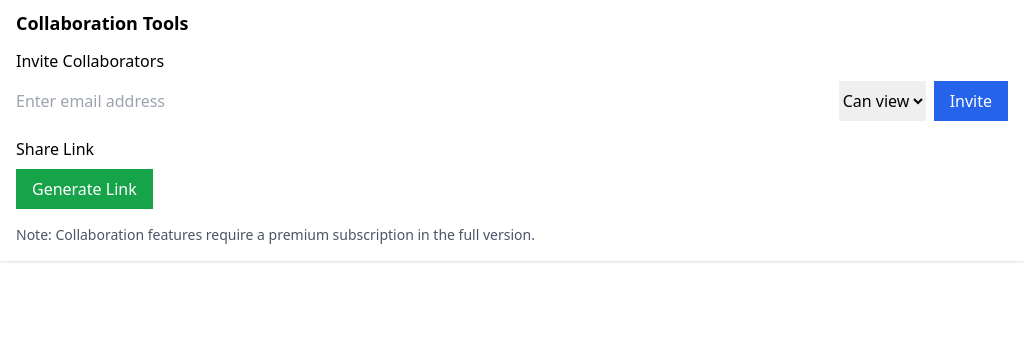
Test: CollaborationTools › shows error when adding invalid email
The width and height of the screenshot is (1024, 339).
// Enter invalid email
In the field with placeholder "Enter email address": (423, 101) [16,81,831,121], type "invalid-email"
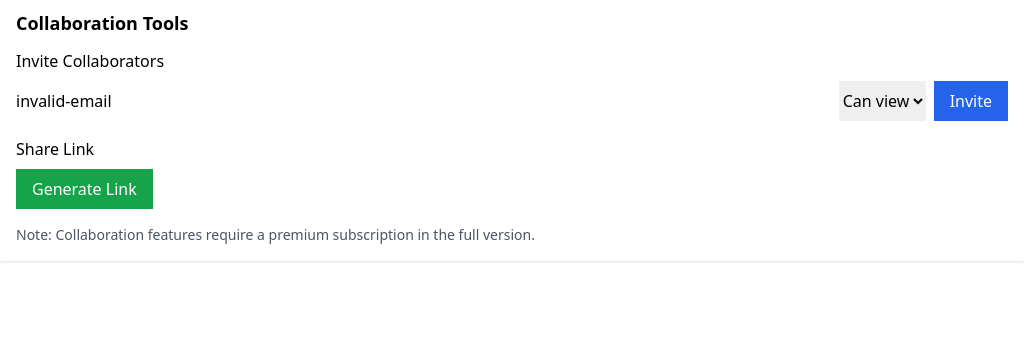
// Click invite button
Click the button "Invite": (971, 101) [934,81,1008,121]
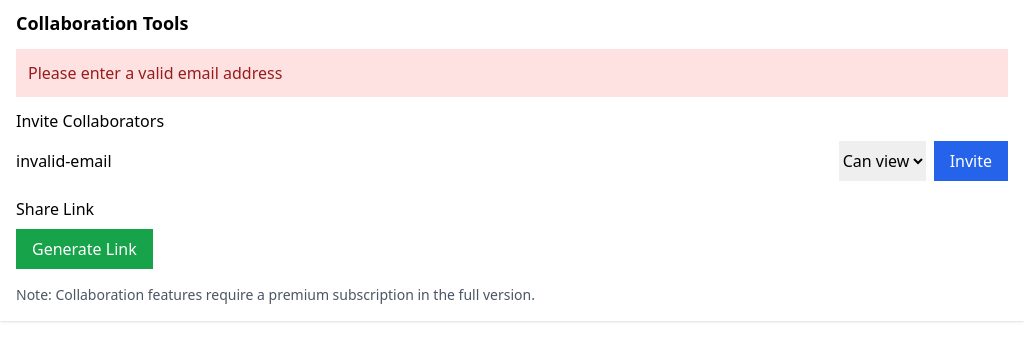
Result: the text "Please enter a valid email address" is shown at [16,49,1008,97]
